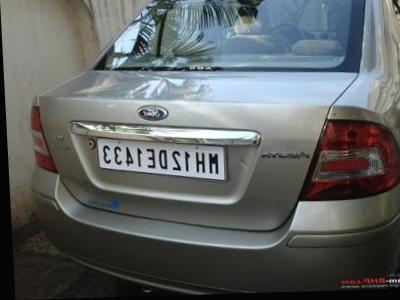License_Plate: (97, 136, 227, 187)
